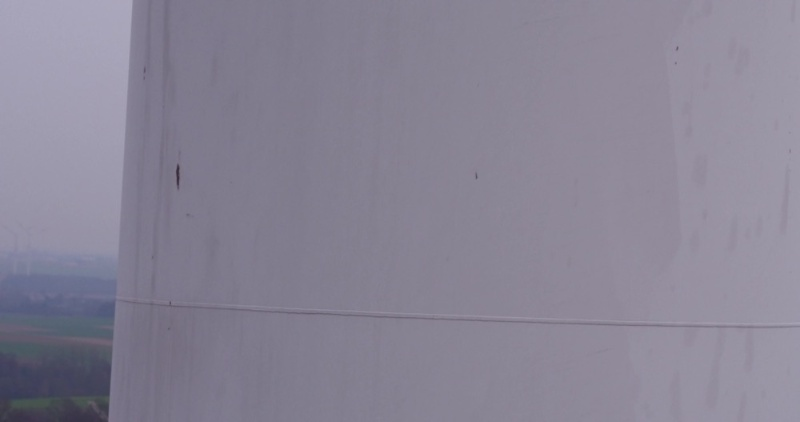weldseam: (112, 291, 800, 333)
